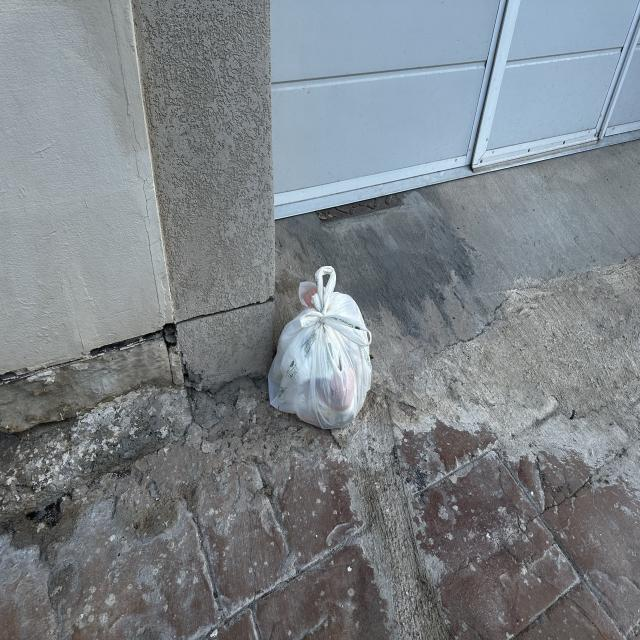Organic Waste -White Bags-: (267, 265, 372, 429)
